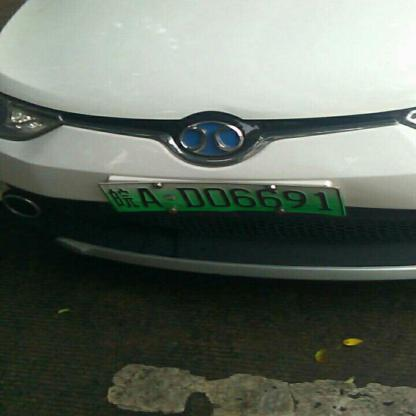lp: (98, 184, 345, 215)
